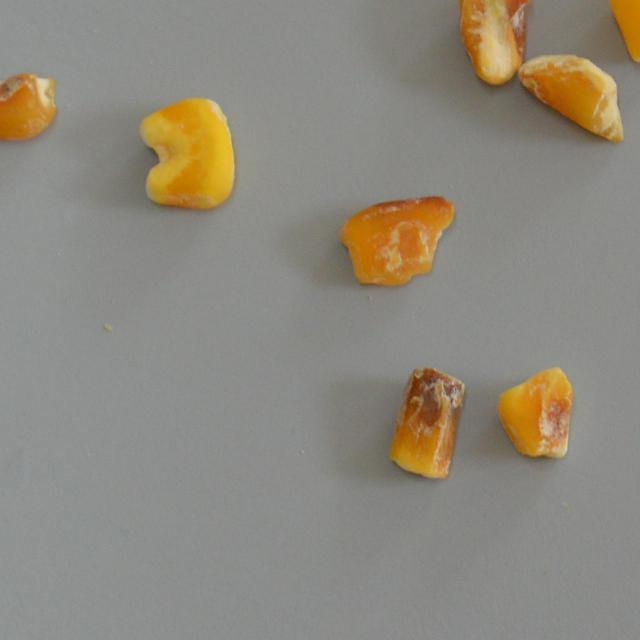dañado: (338, 193, 454, 290), (517, 50, 627, 144), (386, 367, 466, 479), (494, 366, 574, 460), (458, 0, 529, 86), (0, 71, 58, 142), (607, 0, 640, 63)
pelicula: (138, 96, 236, 208)
